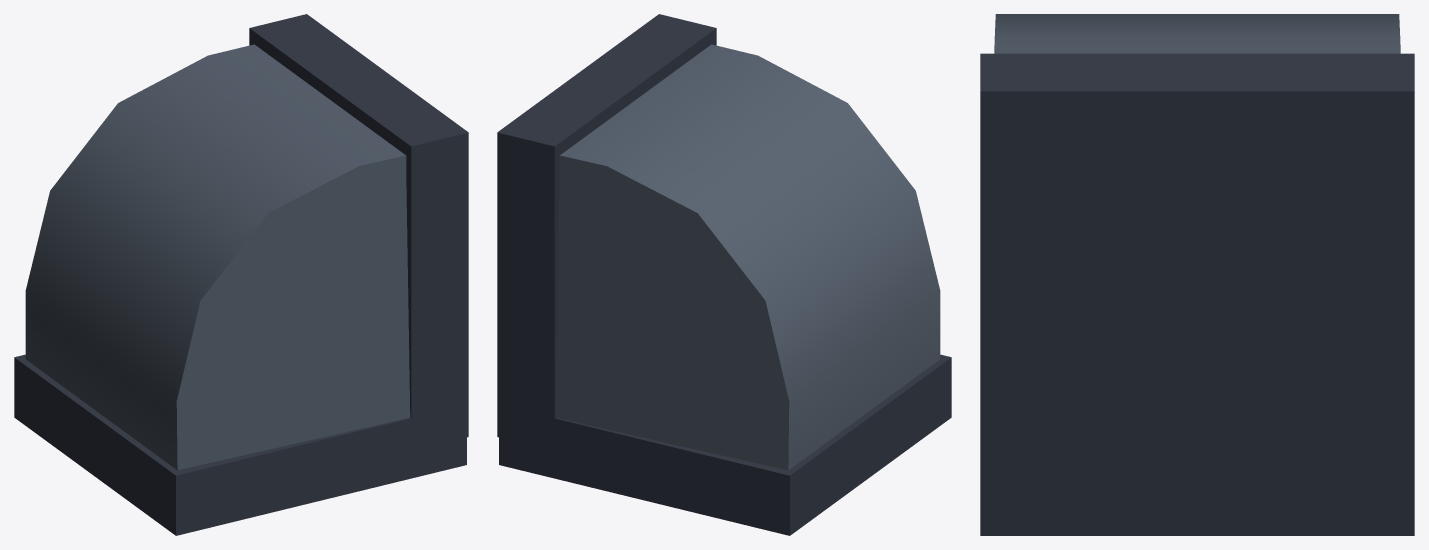
Rendered from Vent_2_A_2.fbx.
3 renders of one model, left to right at view 1: azimuth 30°, elevation 25°; view 2: azimuth 150°, elevation 25°; view 3: azimuth 270°, elevation 25°, orthographic. The views are drawn at different scales.
Visible parts, largest first — view 1: Vent_2_A_2; view 2: Vent_2_A_2; view 3: Vent_2_A_2.
Boxes of the visible parts, x1=… form: Vent_2_A_2: x1=14, y1=14, x2=468, y2=535; Vent_2_A_2: x1=497, y1=14, x2=951, y2=535; Vent_2_A_2: x1=980, y1=14, x2=1414, y2=535.
Size of the model in its own units: 37.19 by 40.33 by 35.62.
